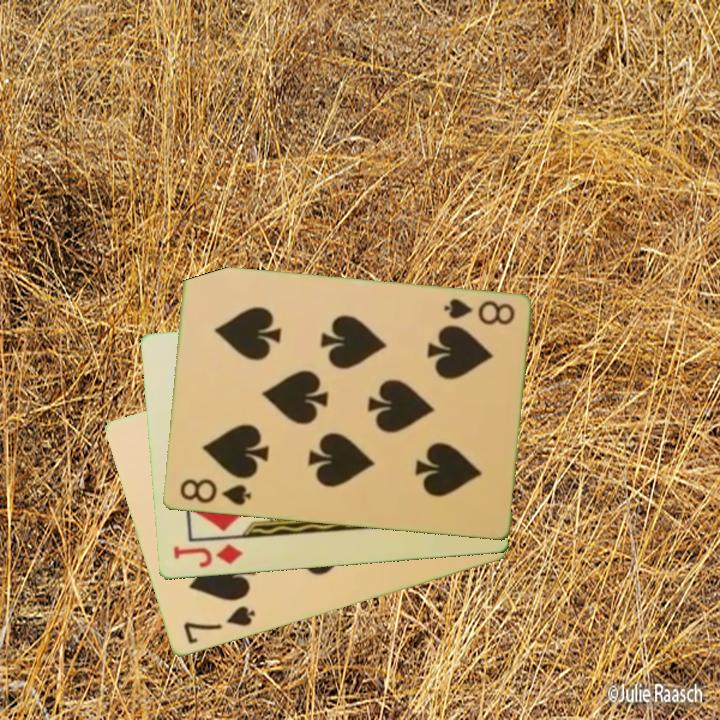7s: (179, 603, 258, 648)
8s: (439, 295, 518, 329), (176, 475, 254, 509)
Jd: (169, 540, 245, 571)
